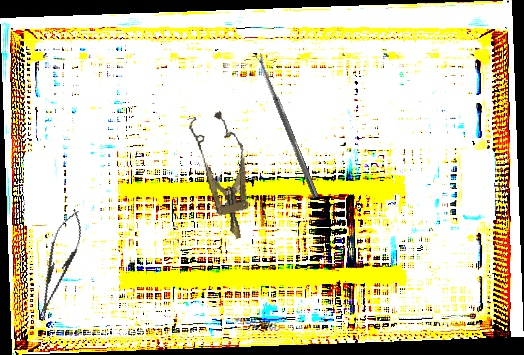Needle Holder: (27, 205, 90, 324)
Speculum: (185, 108, 263, 244)
Surgical Spoon: (255, 52, 320, 199)
